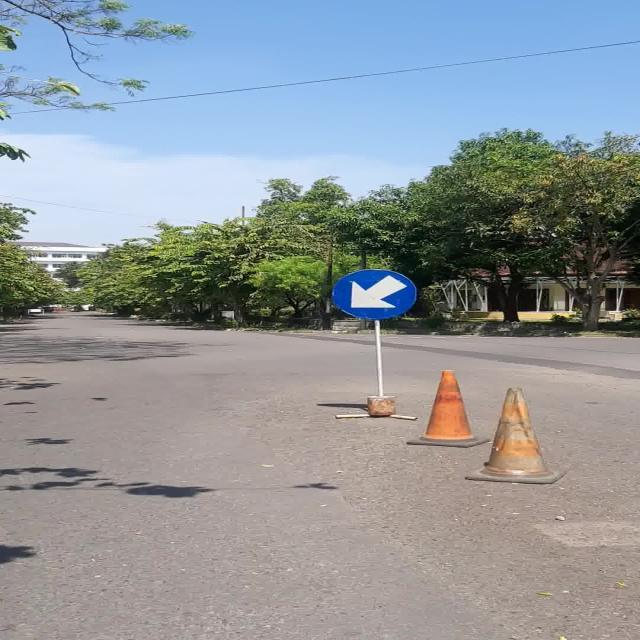Lajur Kiri: (332, 269, 417, 319)
